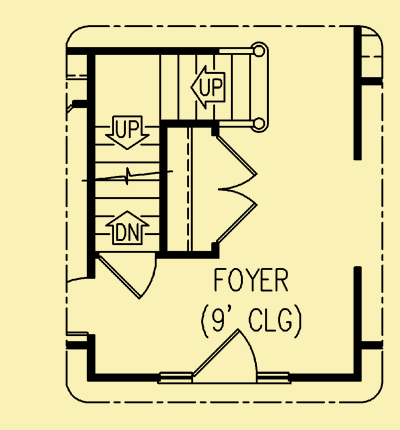door: (204, 131, 260, 247), (193, 324, 261, 390), (94, 248, 155, 301)
stairs: (86, 40, 272, 257)
windows: (254, 367, 293, 391), (151, 371, 195, 391)
